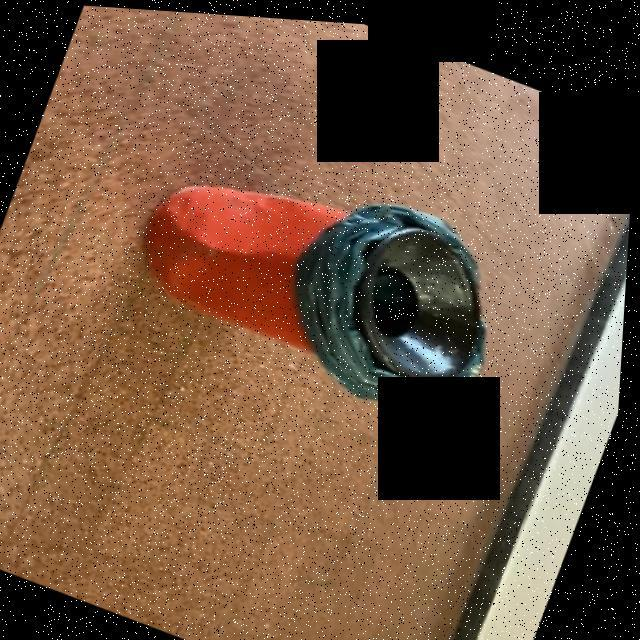bin: (95, 94, 571, 461)
